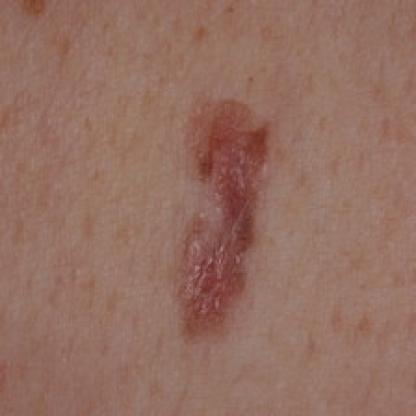Skin_Cancer-Malignant: (176, 98, 276, 349)
